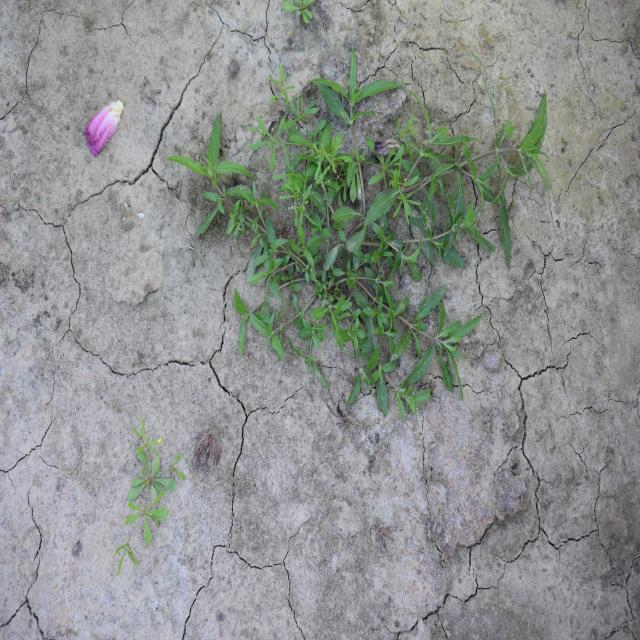Carpetweed: (113, 418, 188, 578), (283, 1, 319, 26)
Eclipta: (165, 46, 556, 424)
